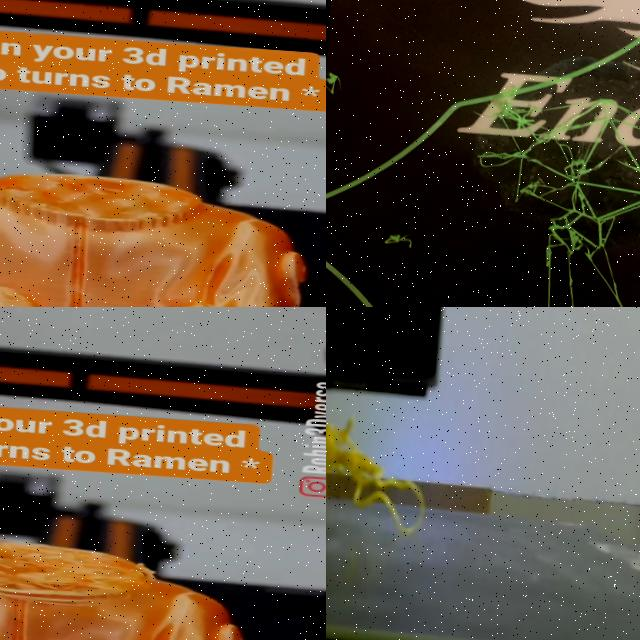spaghetti: (460, 103, 640, 307)
